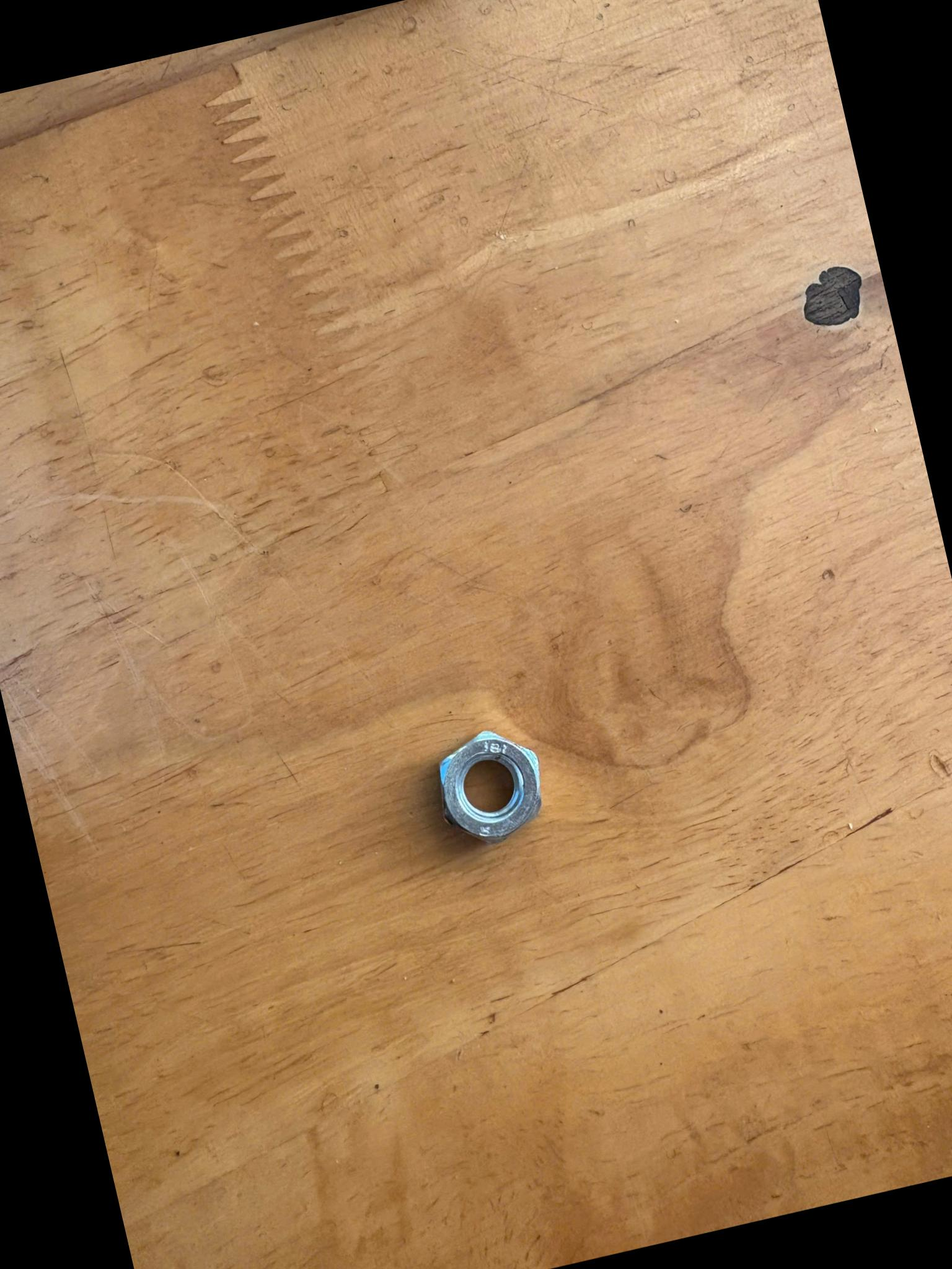nut: (409, 707, 580, 873)
